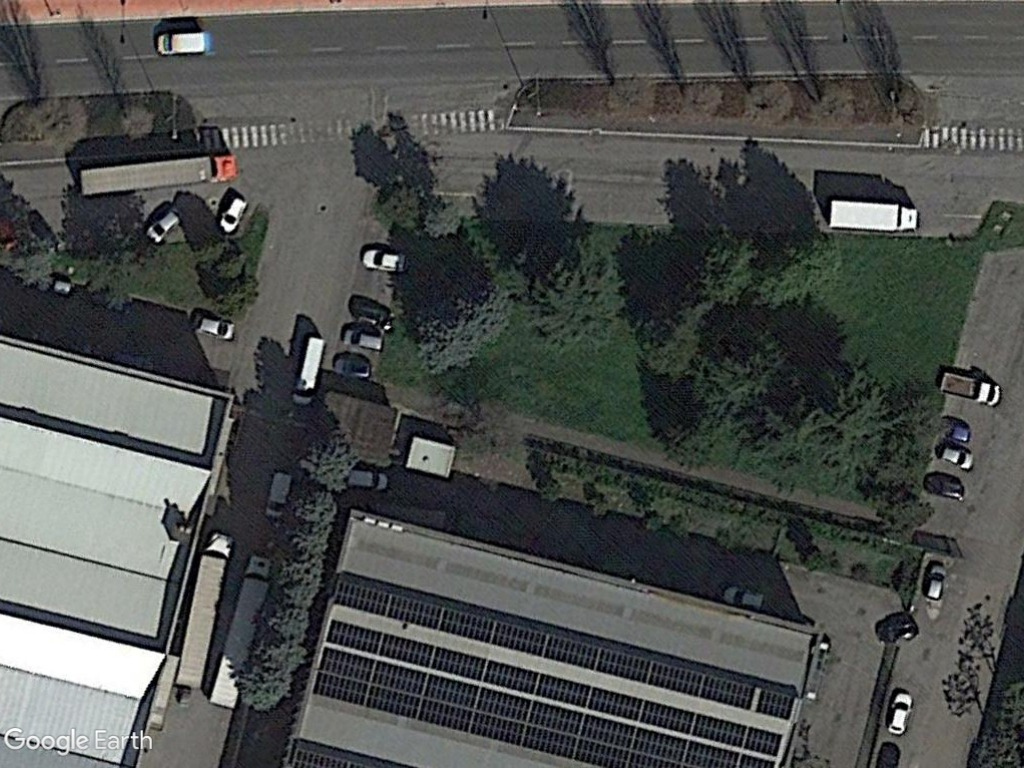car: (144, 203, 187, 247), (717, 580, 770, 615), (883, 685, 915, 739), (936, 435, 979, 473), (215, 193, 253, 236), (189, 311, 238, 343), (921, 558, 952, 608), (357, 246, 412, 274), (340, 326, 387, 356)
longvehicle: (169, 528, 241, 696), (205, 551, 274, 714), (75, 149, 242, 199)
other: (936, 368, 1006, 410)
truck: (824, 195, 923, 236)
van: (289, 332, 332, 410), (262, 468, 297, 522), (152, 31, 216, 58), (344, 465, 392, 494)
